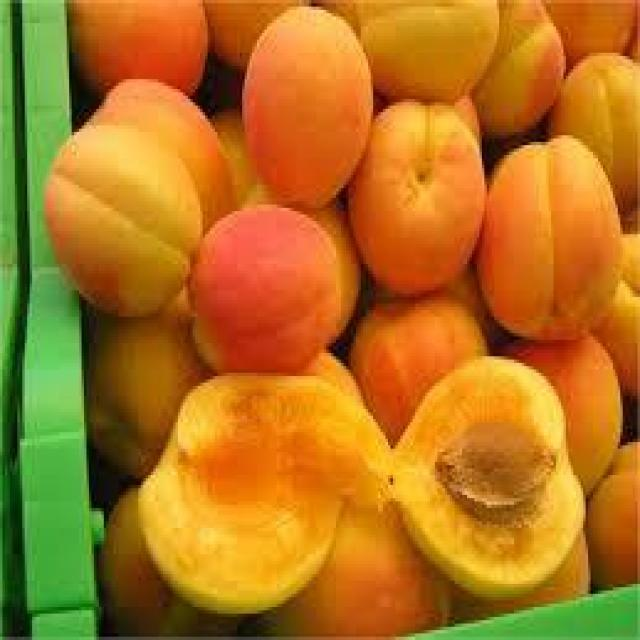cekirdek: (430, 417, 566, 535)
kayisi: (133, 364, 391, 623), (389, 349, 596, 604), (466, 125, 634, 351), (34, 119, 207, 320), (74, 271, 230, 485), (231, 4, 382, 221), (340, 95, 491, 301), (188, 193, 345, 379), (261, 505, 452, 640)
